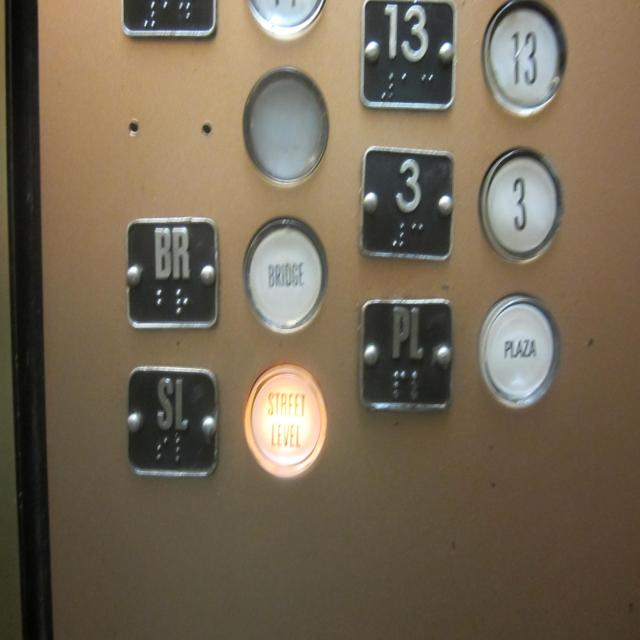13: (356, 0, 459, 112), (482, 1, 566, 122)
3: (357, 140, 459, 266), (476, 144, 566, 266)
BR: (122, 212, 222, 331)
PL: (358, 295, 458, 417)
SL: (122, 360, 222, 483)
empty: (240, 63, 332, 188)
text_bridge: (240, 360, 330, 484)
text_plaza: (477, 289, 562, 415)
text_street: (238, 212, 332, 338)
